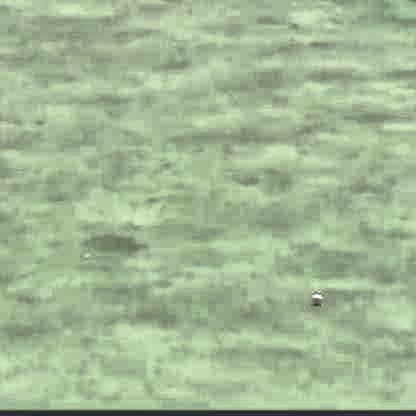golfball: (307, 289, 320, 302)
